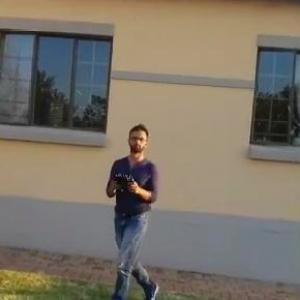follow: (91, 115, 158, 299)
